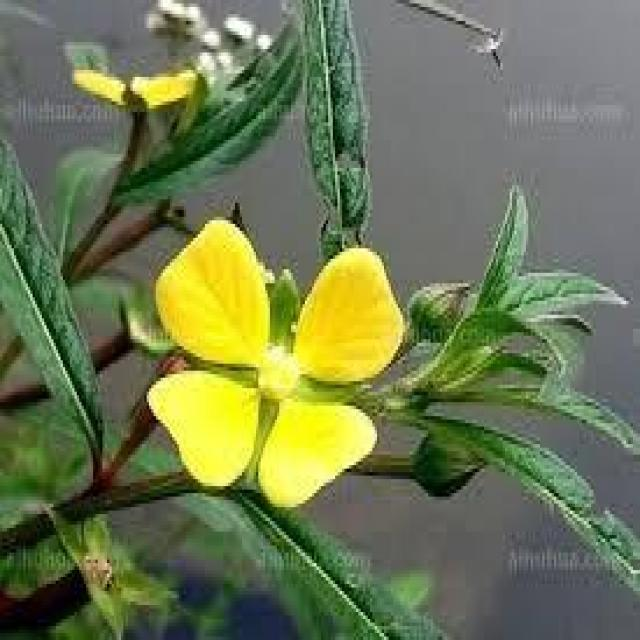organic waste: (147, 210, 405, 486)
